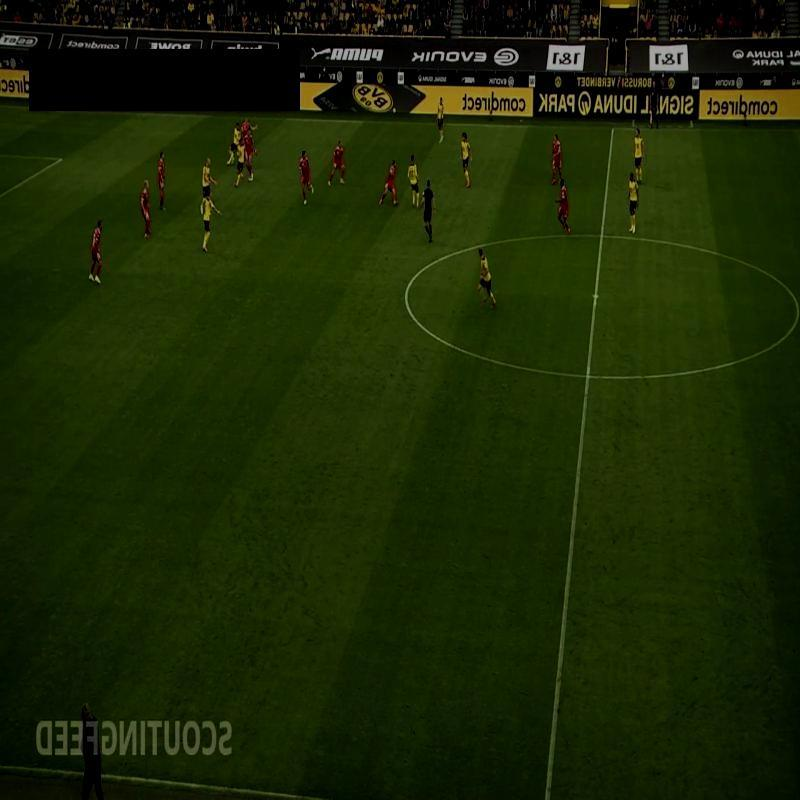13: (606, 121, 620, 135)
14: (594, 228, 610, 245)
15: (578, 368, 596, 384)
9: (55, 152, 69, 166)
c: (400, 278, 414, 302), (795, 292, 800, 329)
